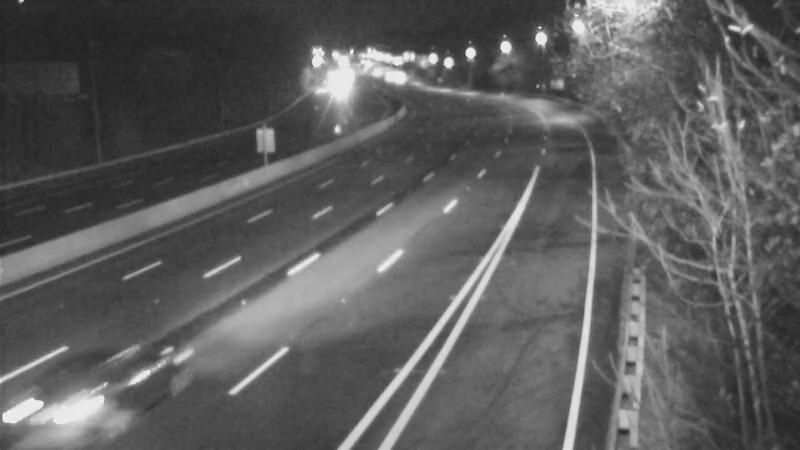vehicle: (39, 335, 149, 445), (312, 60, 362, 110)
